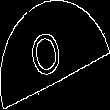O_S: (35, 23, 75, 87)
